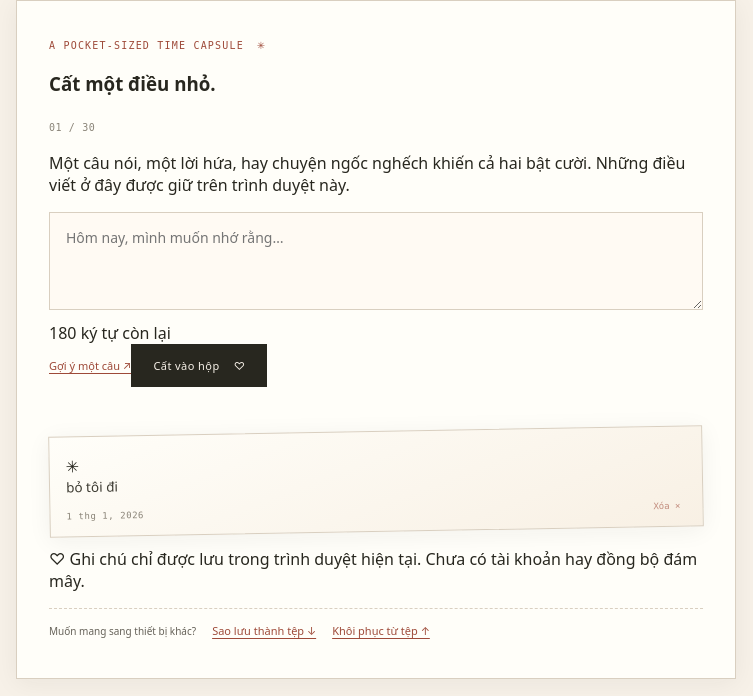
Test: notes › removes a note
The image size is (753, 696).
Click the button with aria-label "Xóa ghi chú: bỏ tôi đi": (667, 506) [647,500,687,512]
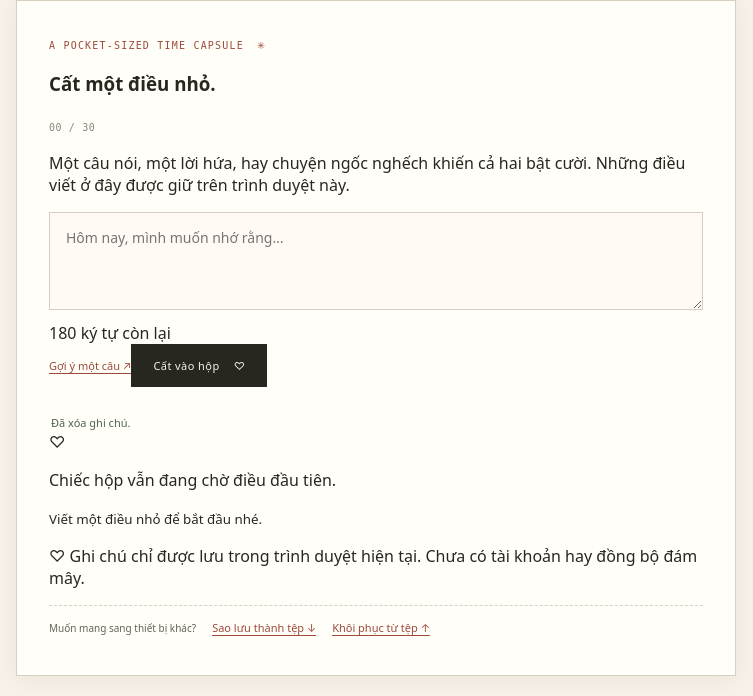
Result: the text "bỏ tôi đi" is gone
